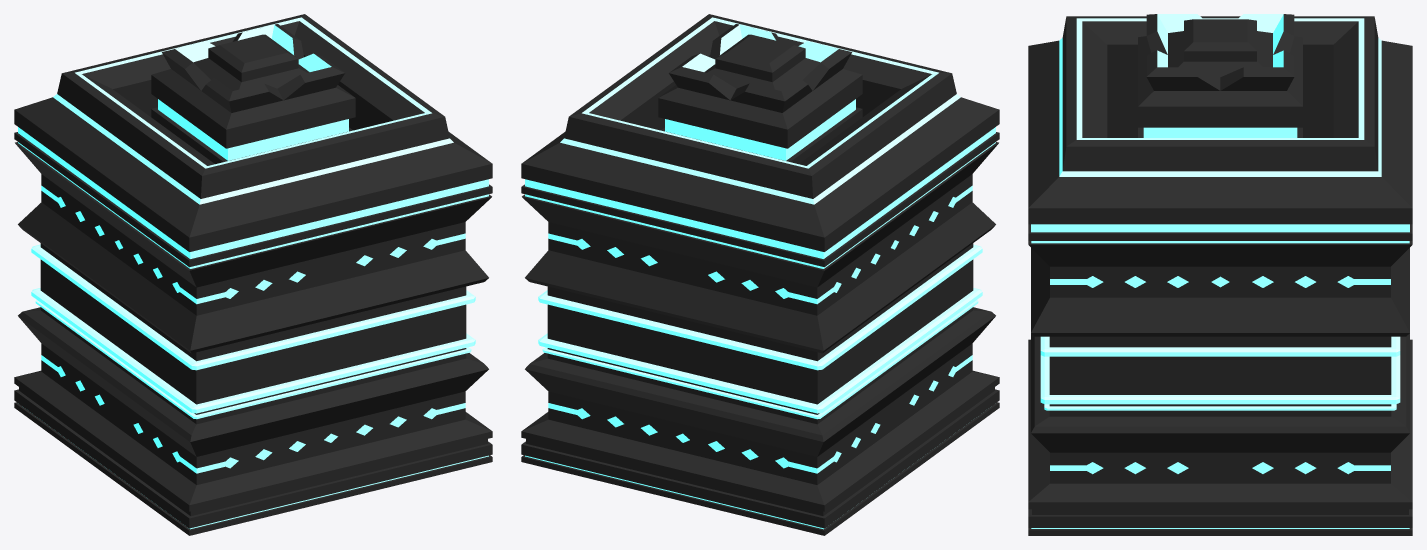
The model's file is 3x3 Pilar.fbx.
3 views of the same model, side by side, from view 1: azimuth 30°, elevation 25°; view 2: azimuth 150°, elevation 25°; view 3: azimuth 270°, elevation 25° (orthographic). The views are drawn at different scales.
Parts seen in each view (by area): view 1: 3x3 Pillar; view 2: 3x3 Pillar; view 3: 3x3 Pillar.
Part boxes in pixels (x1,y1,x2,y2): 3x3 Pillar: [14, 14, 492, 535]; 3x3 Pillar: [521, 14, 999, 535]; 3x3 Pillar: [1028, 14, 1412, 535].
Size of the model in its own units: 1600 by 1600 by 1946.
